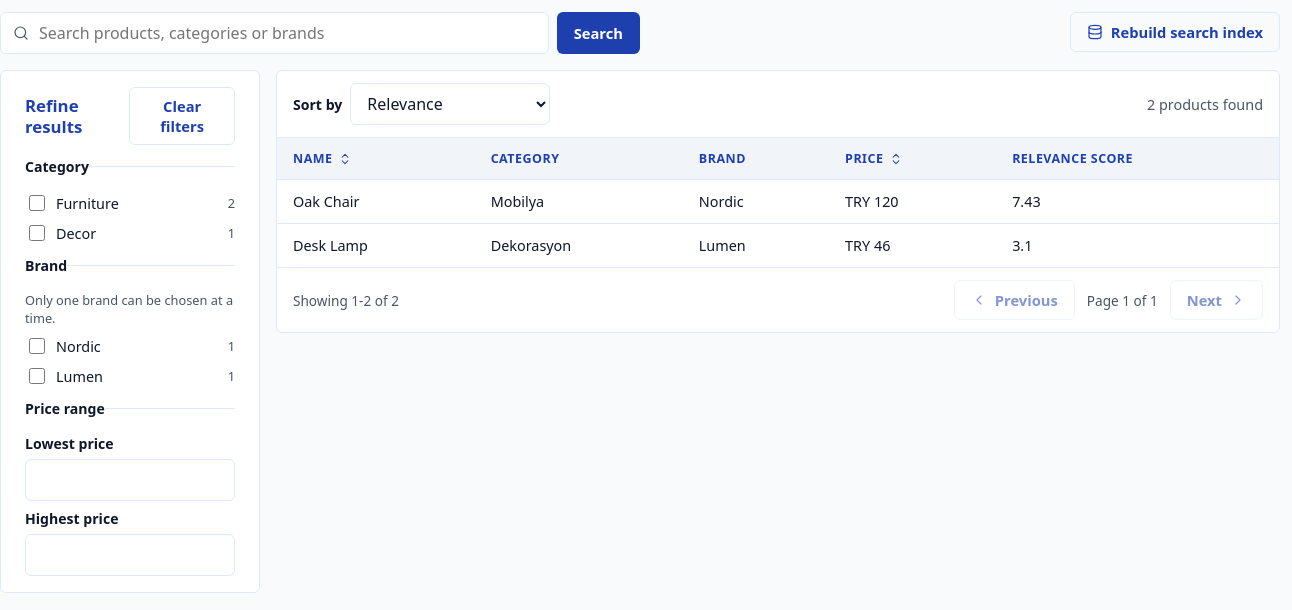
Scenario: typing shows suggestions after a short pause, each with its type
Expected: the text "Oak Chair" is shown, [277,180,475,224]
Type "oak" into the dropdown labelled "Search products, categories or brands" at (286, 33), box [37,13,536,53]
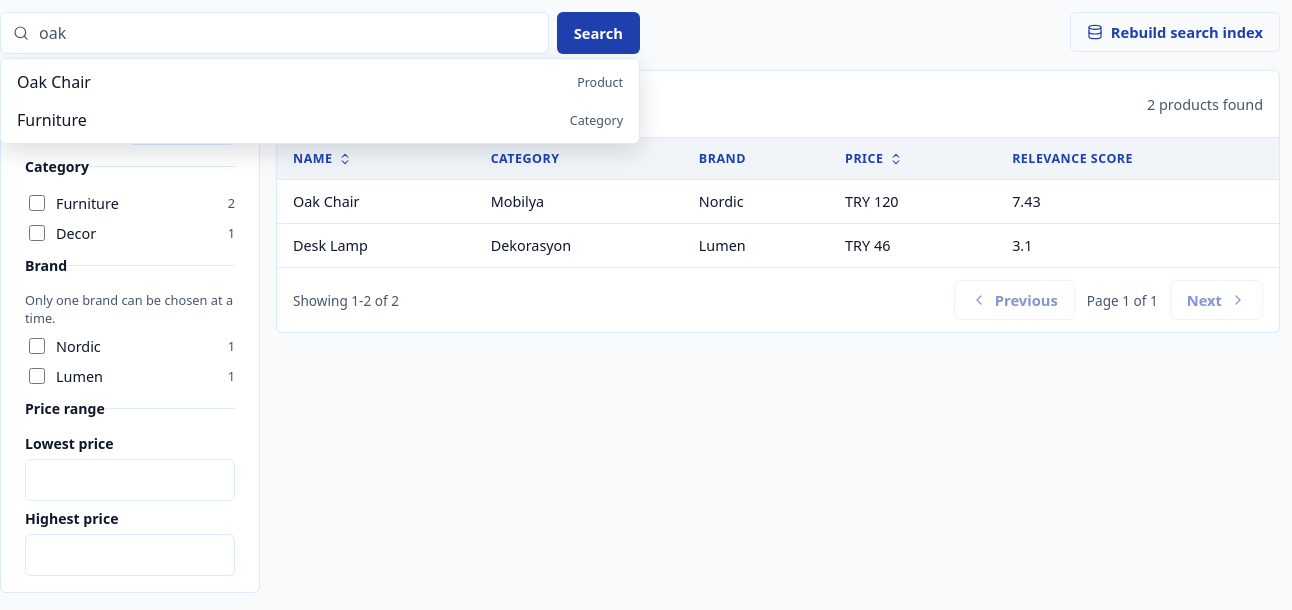
Expected: the number of options is 2, [17,71,623,93]; [17,109,623,131]
Expected: the text "Product" is shown, [577,74,623,90]
Expected: the 1st text "Category" is shown, [570,112,623,128]
